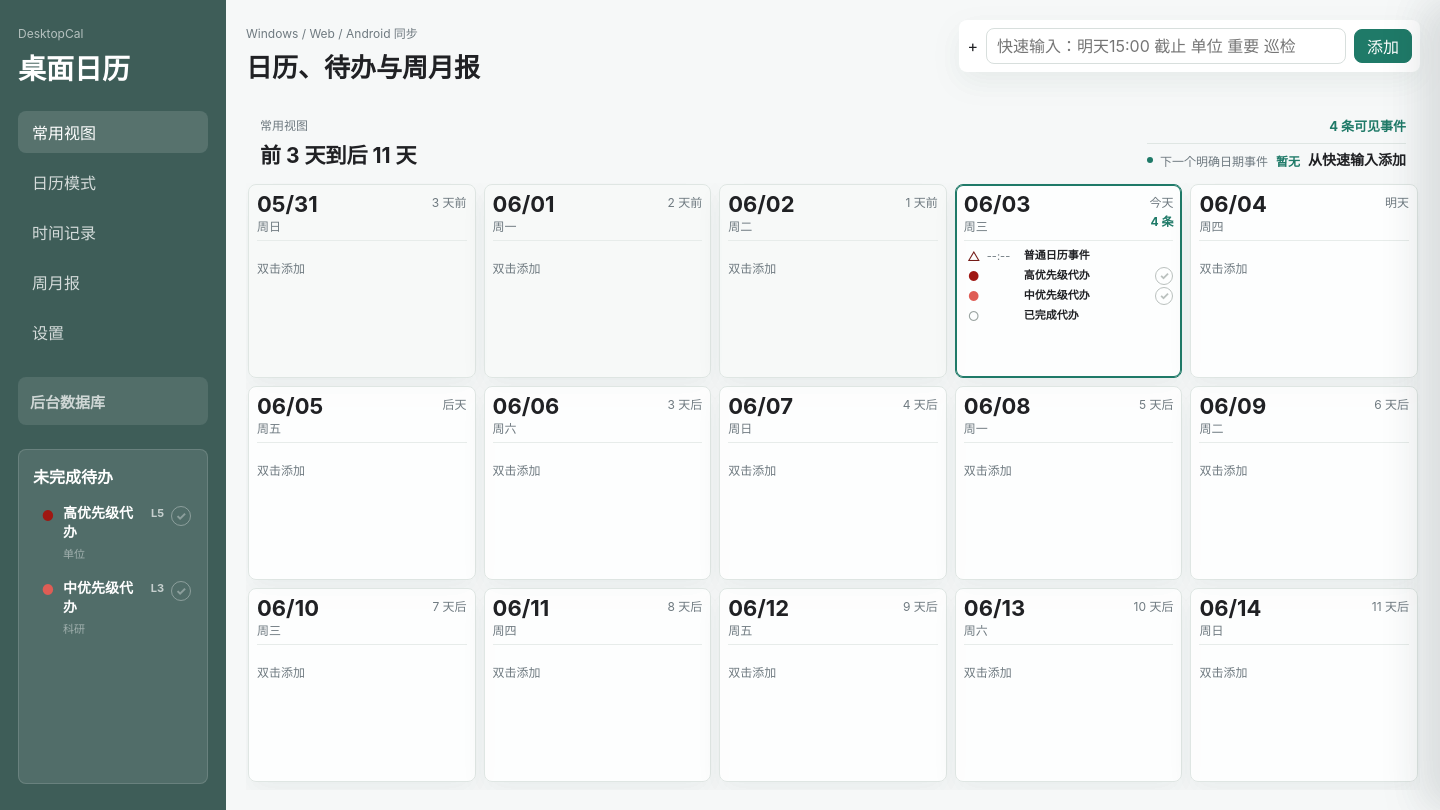
Test: App event interactions › uses the sidebar blank area for pending todos sorted by importance
The image size is (1440, 810).
Check: the element named "代办清单" shows "未完成待办", box [33,467,113,487]
Check: the text "普通日历事件" is shown, box [1024,248,1090,262]
Step 1. Click the button with aria-label "编辑代办：" → {"x": 100, "y": 532}, box [33,498,168,567]
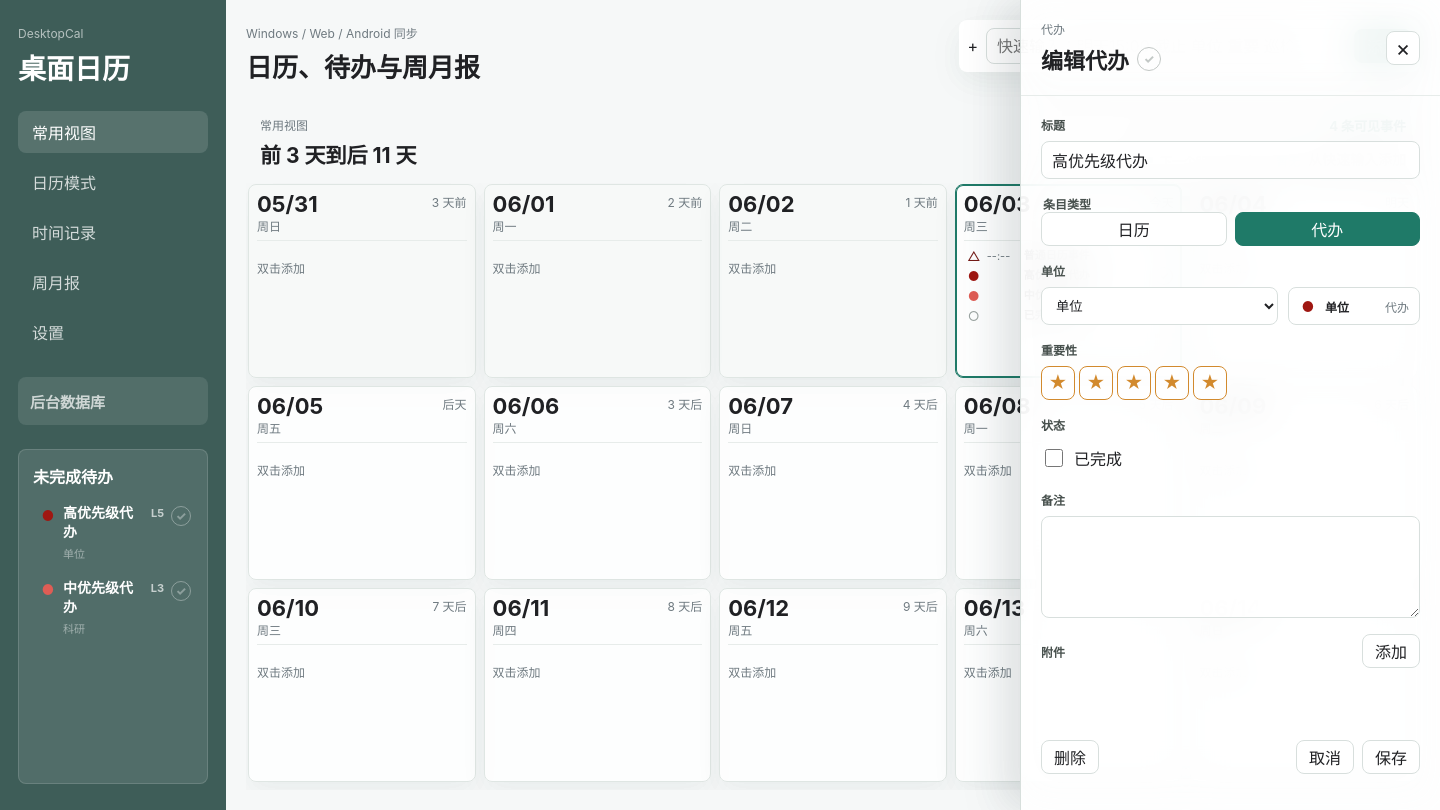
Check: the heading "编辑代办" is shown, box [1041,43,1129,75]
Check: the field labelled "标题" holds "高优先级代办", box [1041,141,1420,179]
